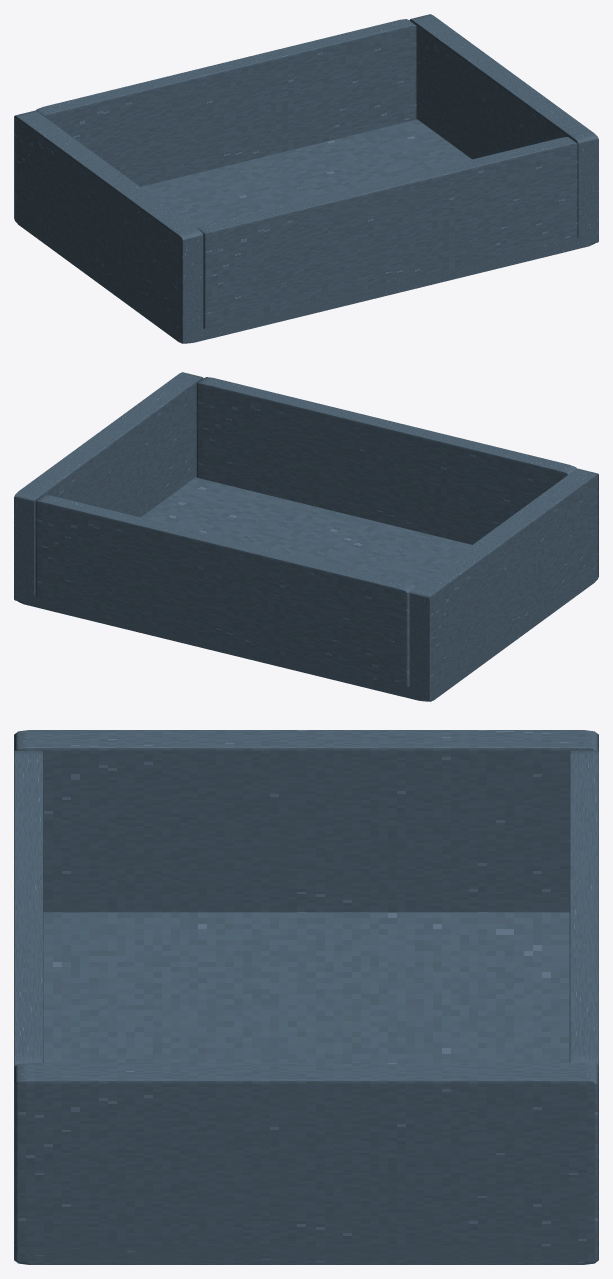
File: seal-box.glb
3 renders of one model, top to bottom at view 1: azimuth 30°, elevation 25°; view 2: azimuth 150°, elevation 25°; view 3: azimuth 270°, elevation 25°, orthographic. The views are drawn at different scales.
Visible parts, largest first — view 1: edge (×2), side (×2), bottom; view 2: edge (×2), side (×2), bottom; view 3: side (×2), bottom, edge (×2).
Part boxes in pixels (bbox=[...]): edge (×2): bbox=[35, 19, 578, 335]; side (×2): bbox=[14, 14, 598, 343]; bottom: bbox=[17, 119, 594, 343]; edge (×2): bbox=[34, 377, 577, 693]; side (×2): bbox=[14, 372, 598, 701]; bottom: bbox=[18, 477, 595, 701]; side (×2): bbox=[14, 730, 598, 1264]; bottom: bbox=[27, 912, 585, 1264]; edge (×2): bbox=[14, 750, 598, 1066].
Bounding box in the file's own units: 0.17 × 0.042 × 0.12.
1 material, 1 textured.
